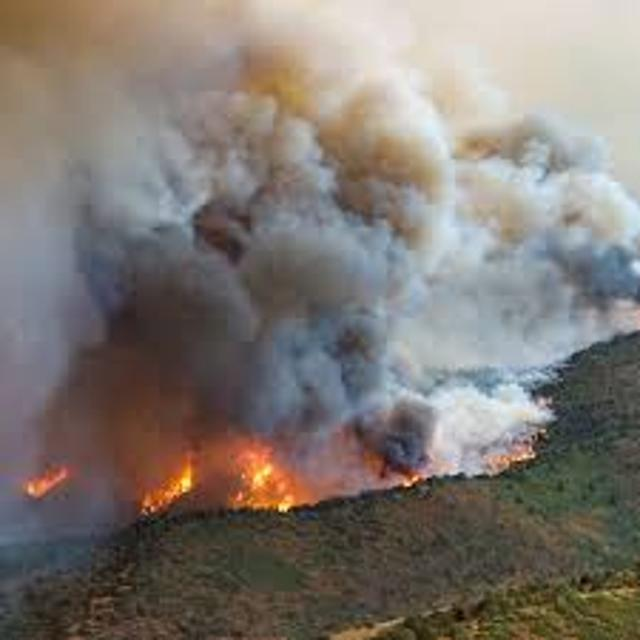Fire: (134, 437, 314, 537), (331, 420, 555, 496), (22, 450, 82, 521)
Smoke: (4, 5, 640, 412)
